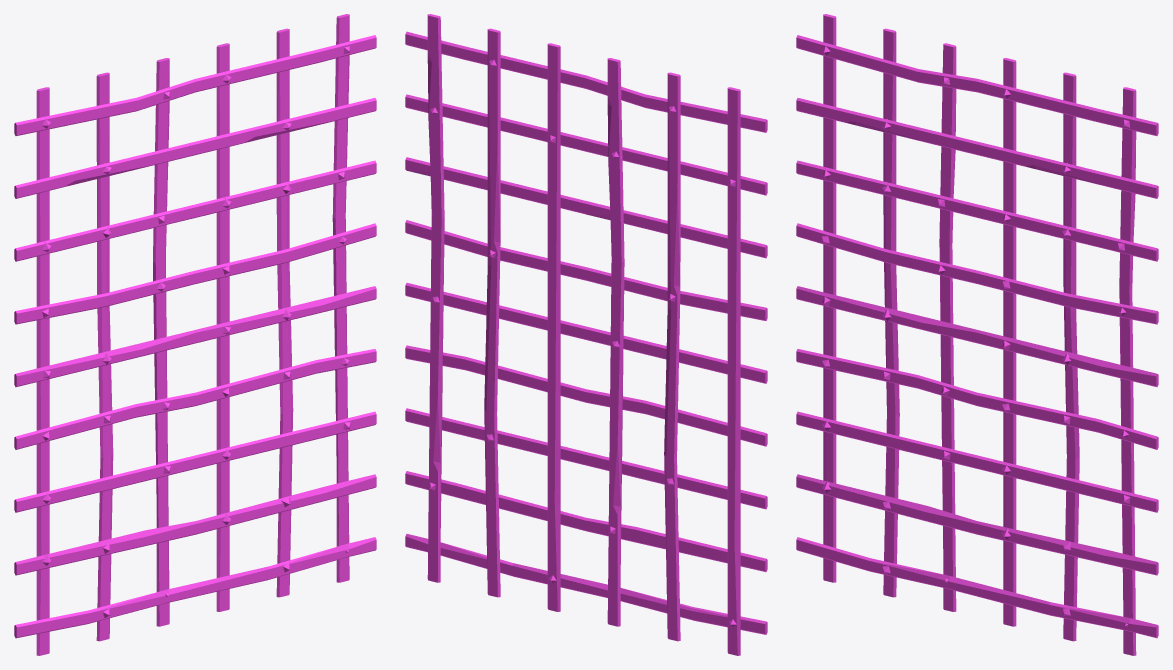
The model's file is SM_Wall_Bars_1x2m_Fantasy.fbx.
3 renders of one model, left to right at view 1: azimuth 30°, elevation 25°; view 2: azimuth 150°, elevation 25°; view 3: azimuth 330°, elevation 25°, orthographic.
Visible parts, largest first — view 1: SM_Wall_Bars_1x2m_Fantasy; view 2: SM_Wall_Bars_1x2m_Fantasy; view 3: SM_Wall_Bars_1x2m_Fantasy.
Boxes of the visible parts, x1,y1,x2,y2 form: SM_Wall_Bars_1x2m_Fantasy: [14, 14, 376, 655]; SM_Wall_Bars_1x2m_Fantasy: [405, 14, 767, 655]; SM_Wall_Bars_1x2m_Fantasy: [796, 14, 1158, 655].
Size of the model in its own units: 2 by 3 by 0.0859.
